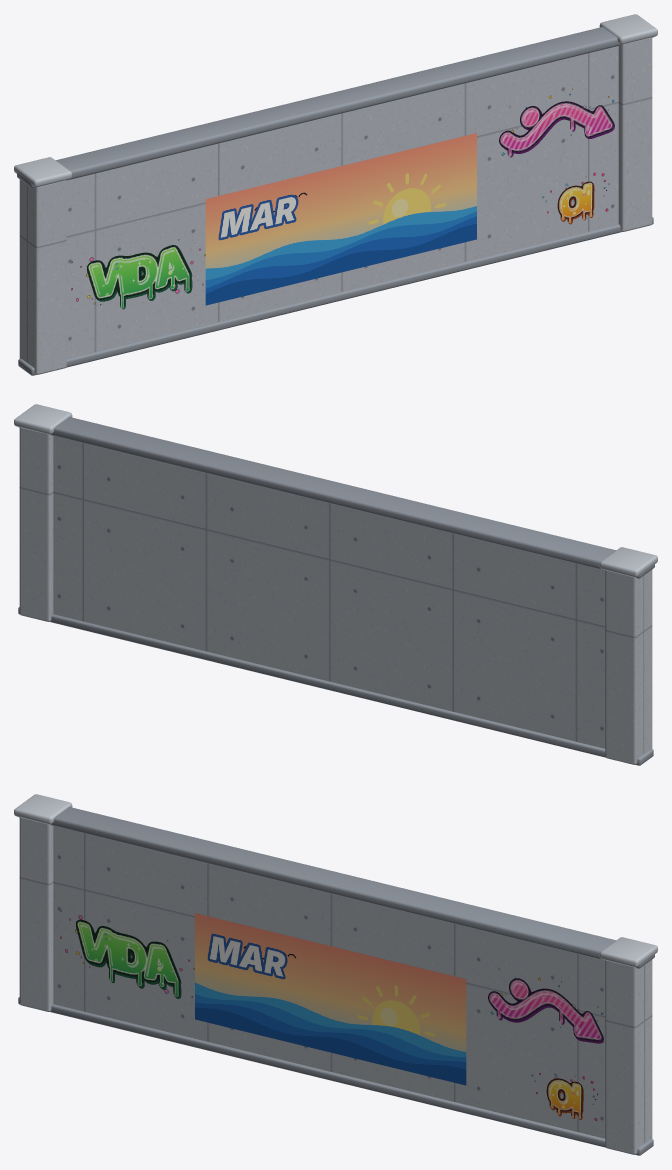
The model's file is muro_concreto_mar.glb.
3 renders of one model, top to bottom at view 1: azimuth 30°, elevation 25°; view 2: azimuth 150°, elevation 25°; view 3: azimuth 330°, elevation 25°, orthographic.
Parts seen in each view (by area): view 1: muro_concreto_mar; view 2: muro_concreto_mar; view 3: muro_concreto_mar.
Boxes of the visible parts, x1,y1,x2,y2 form: muro_concreto_mar: [14, 14, 657, 375]; muro_concreto_mar: [14, 404, 657, 765]; muro_concreto_mar: [14, 794, 657, 1155].
Bounding box in the file's own units: 10.12 × 3.08 × 0.62.
Materials: 6 (6 with a texture image).
